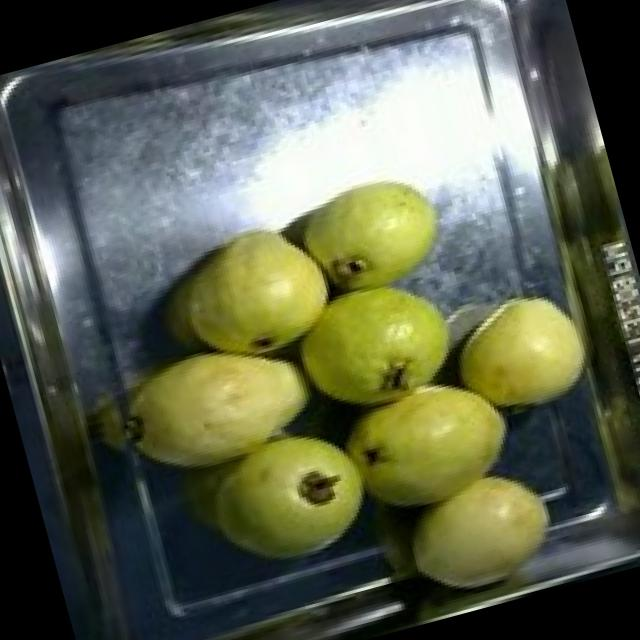Fruit: (106, 312, 337, 498), (139, 202, 353, 392), (315, 360, 536, 534), (268, 250, 482, 428), (192, 406, 393, 586), (382, 446, 581, 618), (276, 151, 464, 316), (429, 268, 609, 437)
